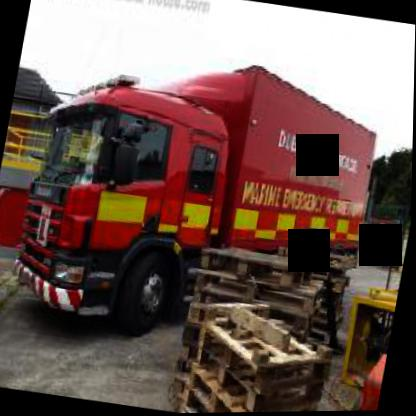emergency: (1, 30, 396, 374)
